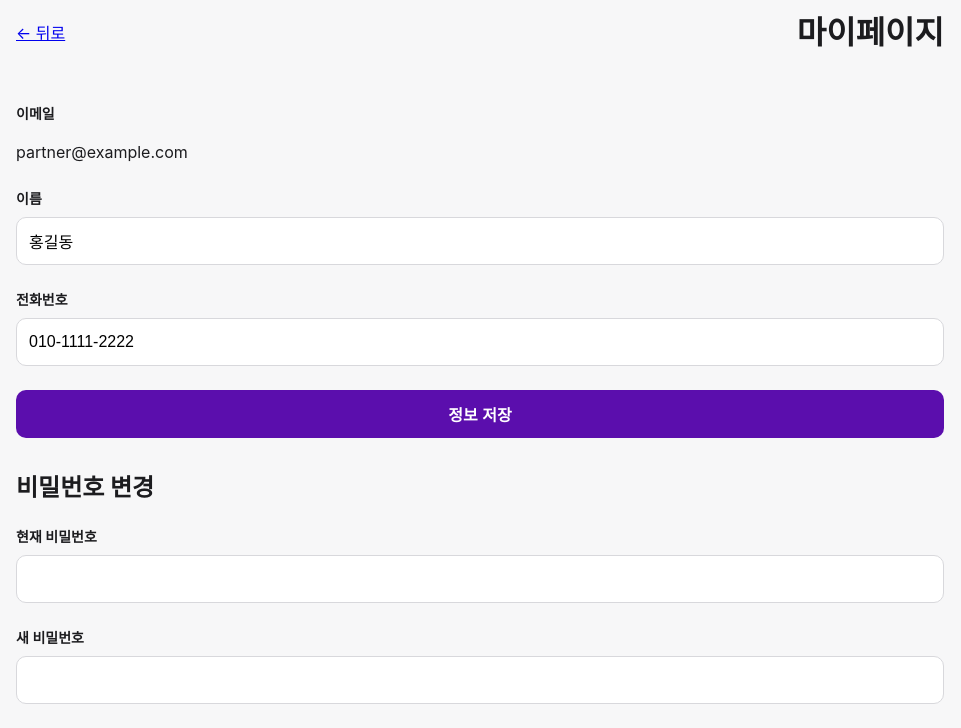
Test: saving name/phone PATCHes /users/me and shows a success message
This screenshot has width=961, height=728.
Replace the text in the field labelled "이름" with "김철수" at (480, 241), box left=16, top=217, right=944, bottom=265
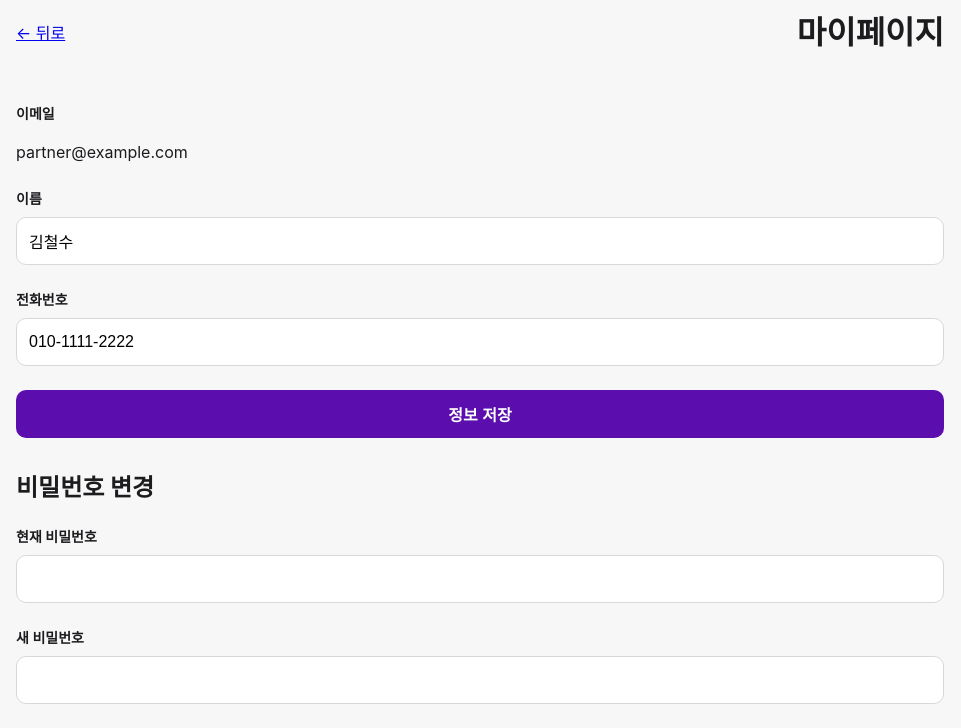
Replace the text in the field labelled "전화번호" with "010-9999-8888" at (480, 342), box left=16, top=318, right=944, bottom=366
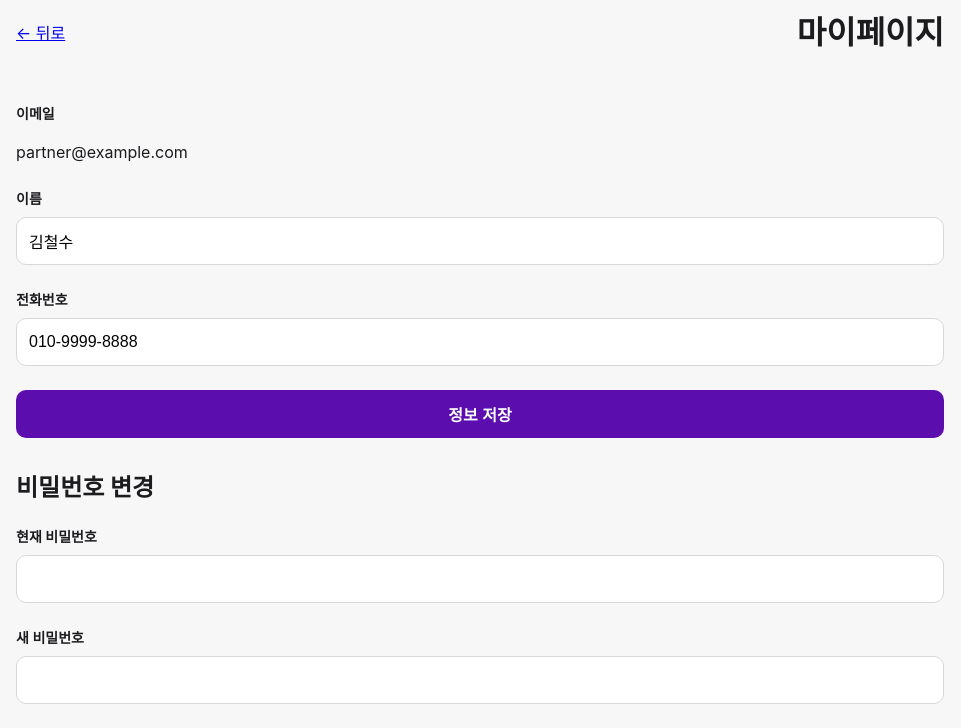
Click the button "정보 저장" at (480, 414), box left=16, top=390, right=944, bottom=438
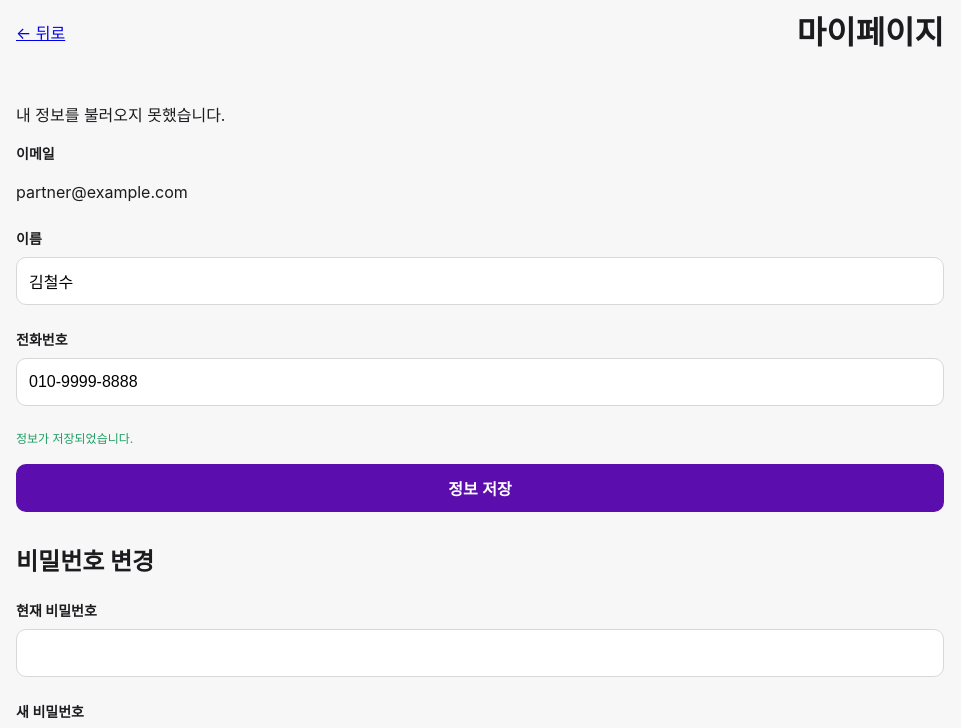
Expected: the text "정보가 저장되었습니다." is shown, left=16, top=431, right=133, bottom=446
